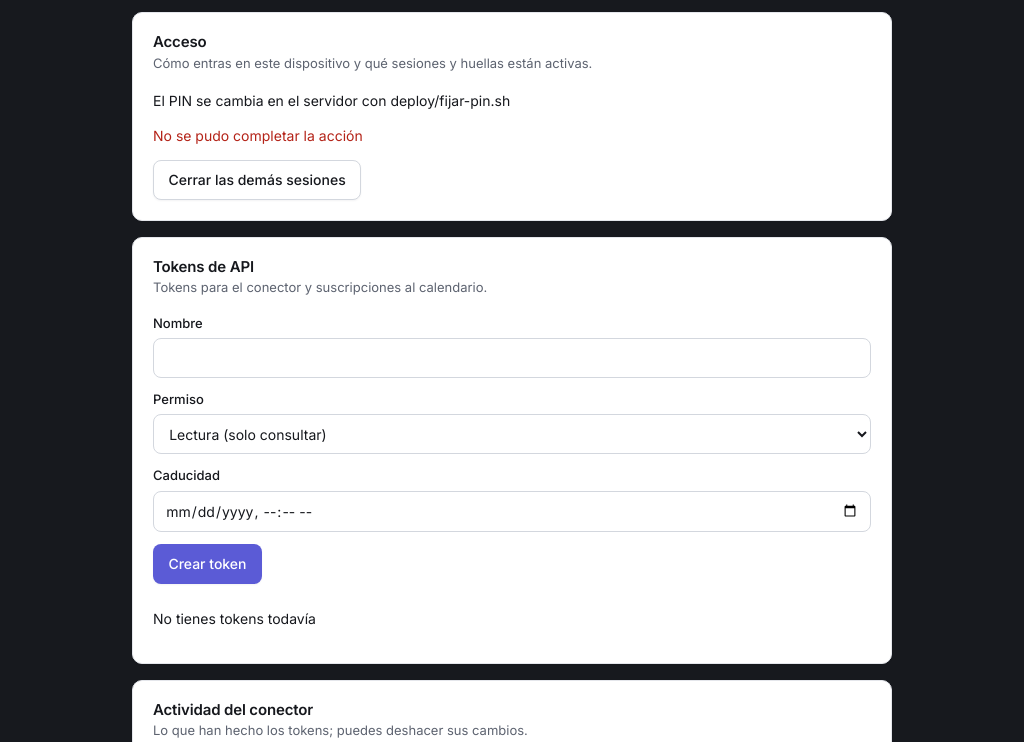
Scenario: Ajustes › crea un token y solo lo muestra al crearlo
(page scrolled)
Type "MCP" into the field labelled "Nombre" at coordinates (512, 358), box x1=153 y1=338 x2=871 y2=378
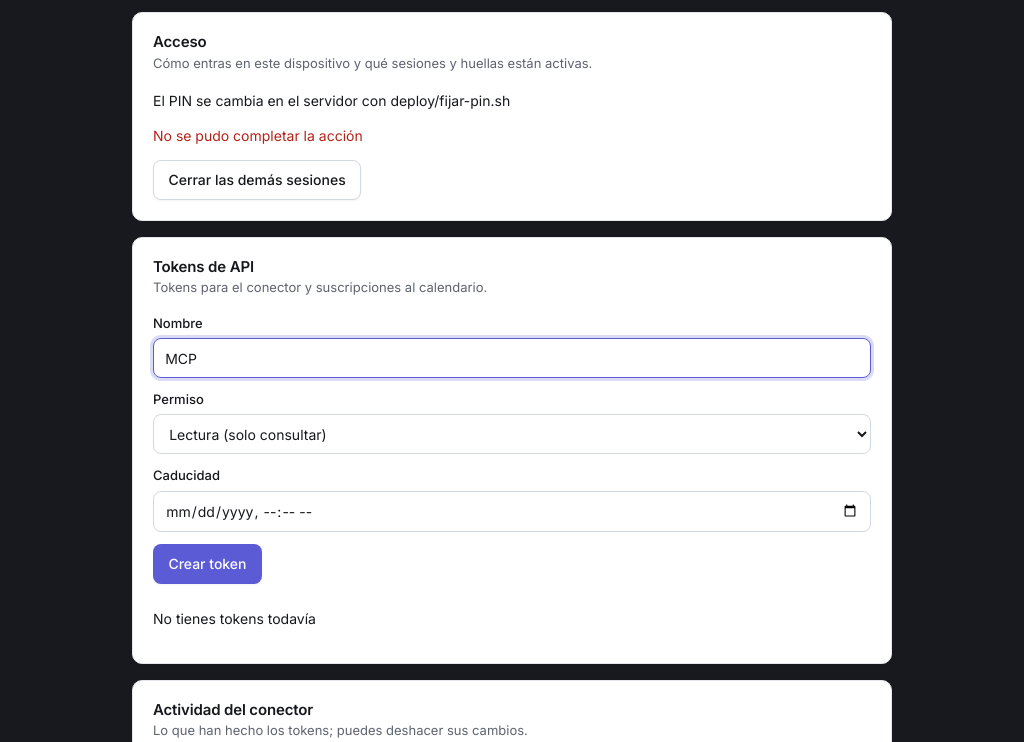
Select "Calendario (solo suscripción .ics)" in the dropdown labelled "Permiso" at coordinates (512, 434), box x1=153 y1=414 x2=871 y2=454
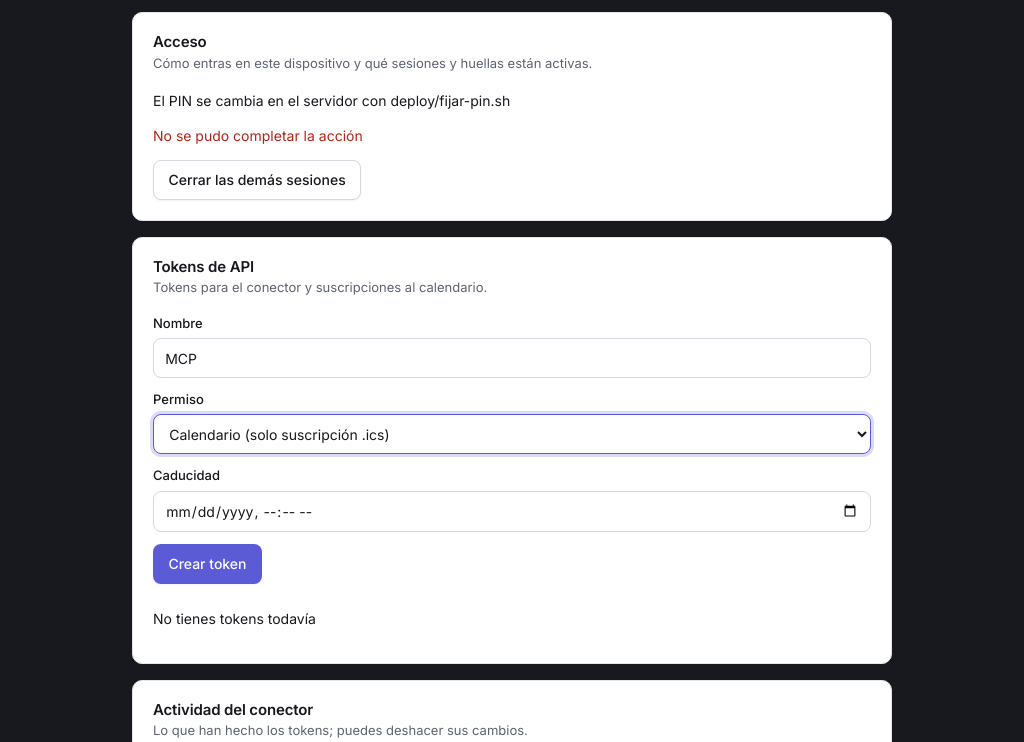
Click the button "Crear token" at coordinates (207, 564), box x1=153 y1=544 x2=262 y2=584
(page scrolled)
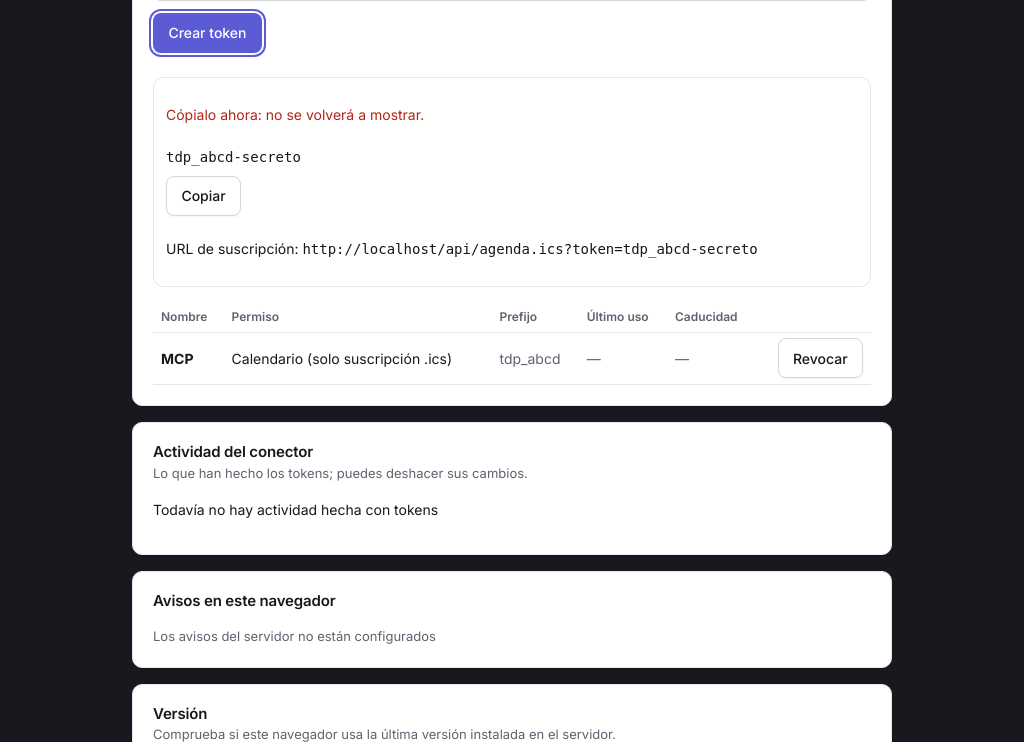
Expected: the text "tdp_abcd-secreto" is shown, x1=166 y1=147 x2=301 y2=168
Expected: the text "Cópialo ahora: no se volverá a mostrar." is shown, x1=166 y1=104 x2=424 y2=125
Expected: the text "http://localhost/api/agenda.ics?token=tdp_abcd-secreto" is shown, x1=302 y1=241 x2=758 y2=257
